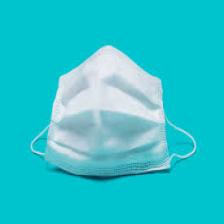mask: (28, 43, 198, 178)
